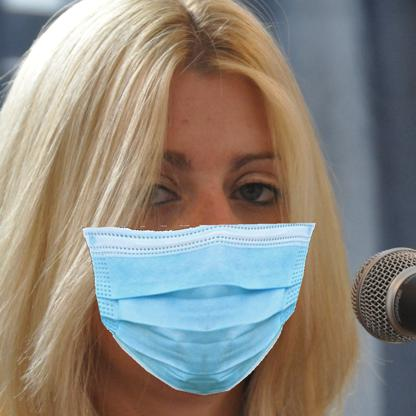mask: (80, 219, 326, 397)
